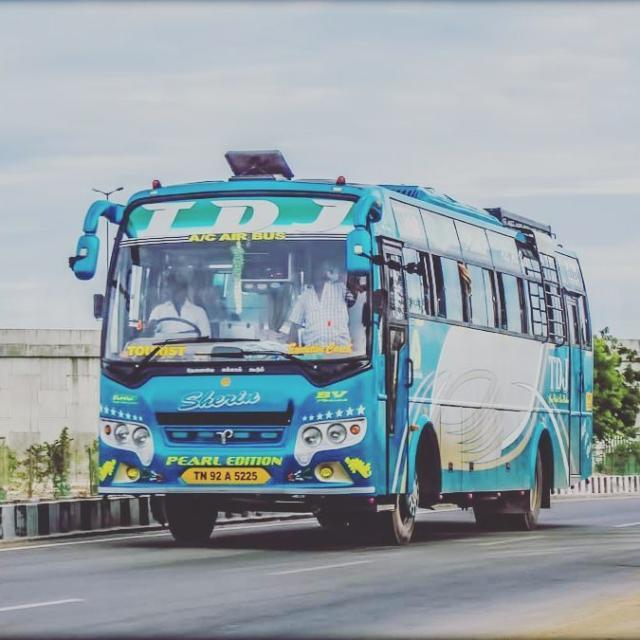Bus: (69, 148, 596, 546)
